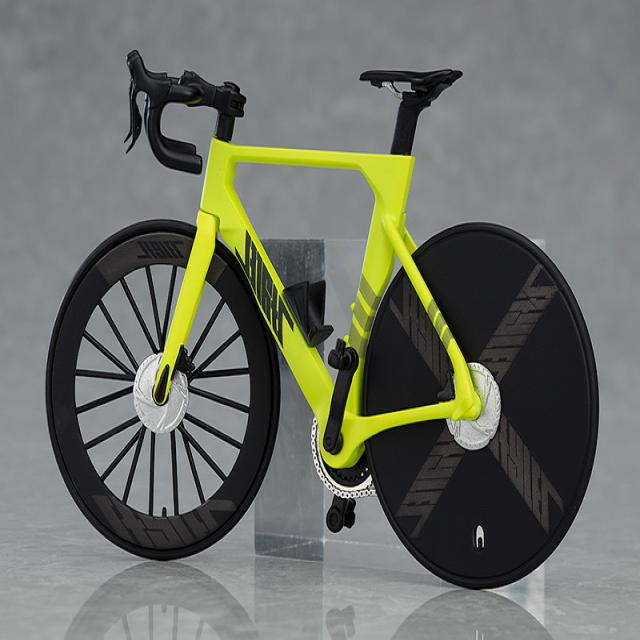TT-bike: (47, 51, 599, 592)
